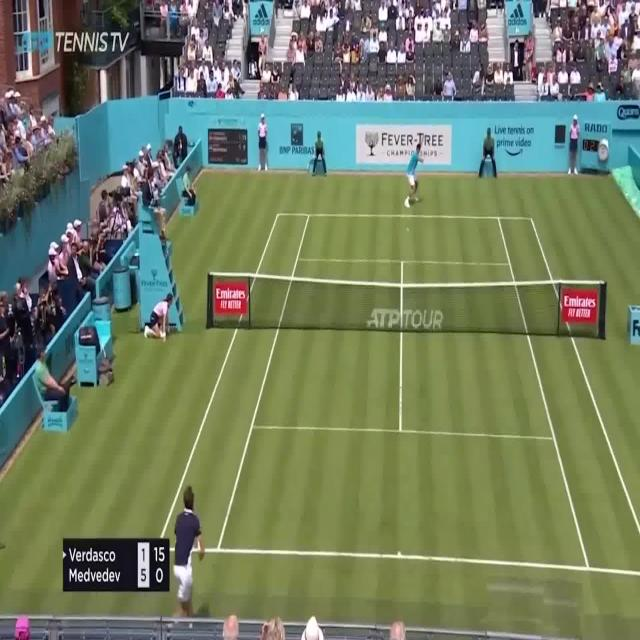bottom-dead-zone: (217, 425, 589, 570)
court: (157, 213, 640, 573)
left-doubles-alley: (157, 215, 309, 550)
left-service-box: (251, 258, 403, 430)
net: (203, 271, 607, 343)
right-doubles-alley: (498, 218, 640, 573)
right-service-box: (400, 261, 557, 441)
top-dead-zone: (297, 215, 511, 263)
